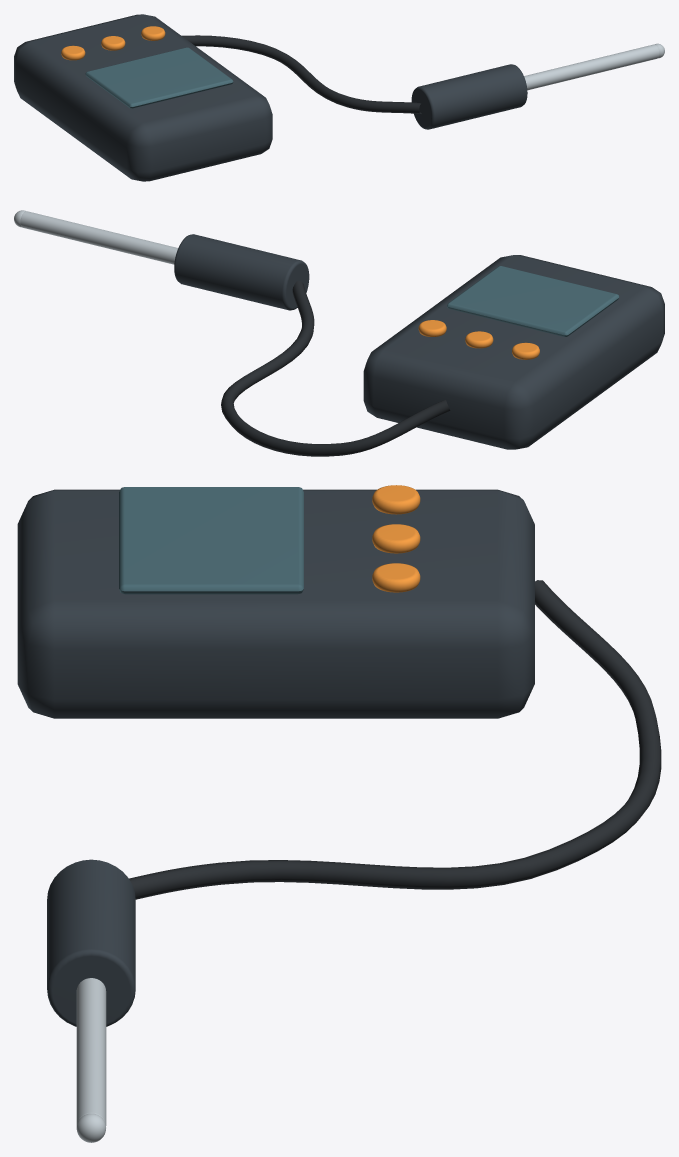
File: probe.glb
3 renders of one model, top to bottom at view 1: azimuth 30°, elevation 25°; view 2: azimuth 150°, elevation 25°; view 3: azimuth 270°, elevation 25°, orthographic. The views are drawn at different scales.
Visible parts, largest first — view 1: Handheld readout, Readout display, Probe handle, Flexible sensor cable, Probe stem, Readout button, Readout button.002, Readout button.001; view 2: Handheld readout, Readout display, Probe handle, Flexible sensor cable, Probe stem, Readout button.001, Readout button, Readout button.002; view 3: Handheld readout, Readout display, Flexible sensor cable, Probe handle, Probe stem, Readout button.002, Readout button.001, Readout button.
Boxes of the visible parts, <box> form: Handheld readout: <box>14,14,272,181</box>; Readout display: <box>85,47,233,108</box>; Probe handle: <box>411,64,527,129</box>; Flexible sensor cable: <box>181,35,421,113</box>; Probe stem: <box>524,44,659,90</box>; Readout button: <box>61,45,85,60</box>; Readout button.002: <box>141,26,165,40</box>; Readout button.001: <box>101,36,125,50</box>; Handheld readout: <box>363,255,664,449</box>; Readout display: <box>447,266,619,336</box>; Probe handle: <box>174,234,309,310</box>; Flexible sensor cable: <box>221,281,450,456</box>; Probe stem: <box>20,211,178,264</box>; Readout button.001: <box>465,331,493,348</box>; Readout button: <box>512,342,539,359</box>; Readout button.002: <box>418,320,446,336</box>; Handheld readout: <box>17,489,534,718</box>; Readout display: <box>119,487,303,594</box>; Flexible sensor cable: <box>129,580,661,899</box>; Probe handle: <box>47,859,135,1026</box>; Probe stem: <box>76,978,106,1125</box>; Readout button.002: <box>372,563,420,592</box>; Readout button.001: <box>372,524,420,553</box>; Readout button: <box>372,485,420,514</box>.
Size of the model in its own units: 0.4312 by 0.0675 by 0.22.
